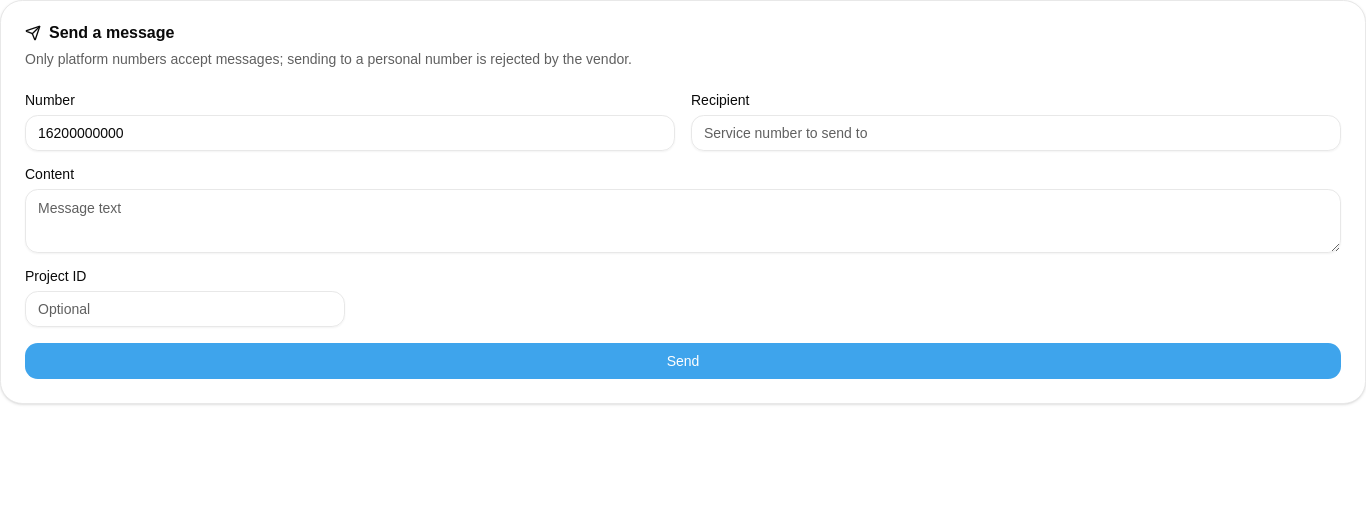
Test: a sent message reports the vendor answer
Type "1069000000000" into the field labelled "Recipient" at (1016, 133), box x1=691 y1=115 x2=1341 y2=151
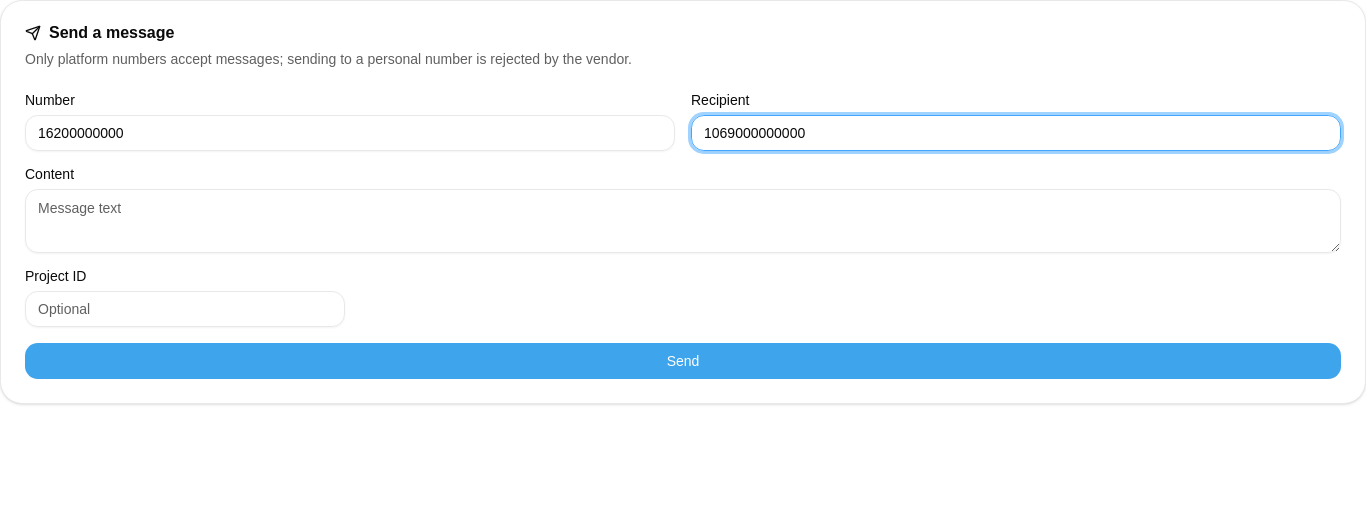
Type "hello" into the text box labelled "Content" at (683, 221), box x1=25 y1=189 x2=1341 y2=253
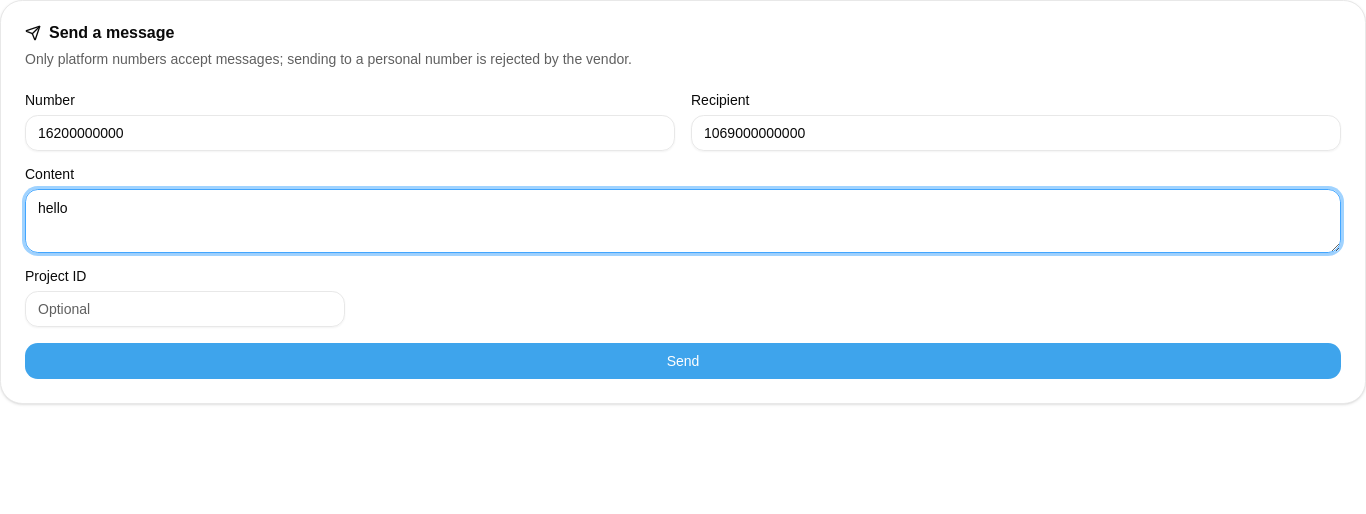
Click the button "Send" at (683, 361), box x1=25 y1=343 x2=1341 y2=379
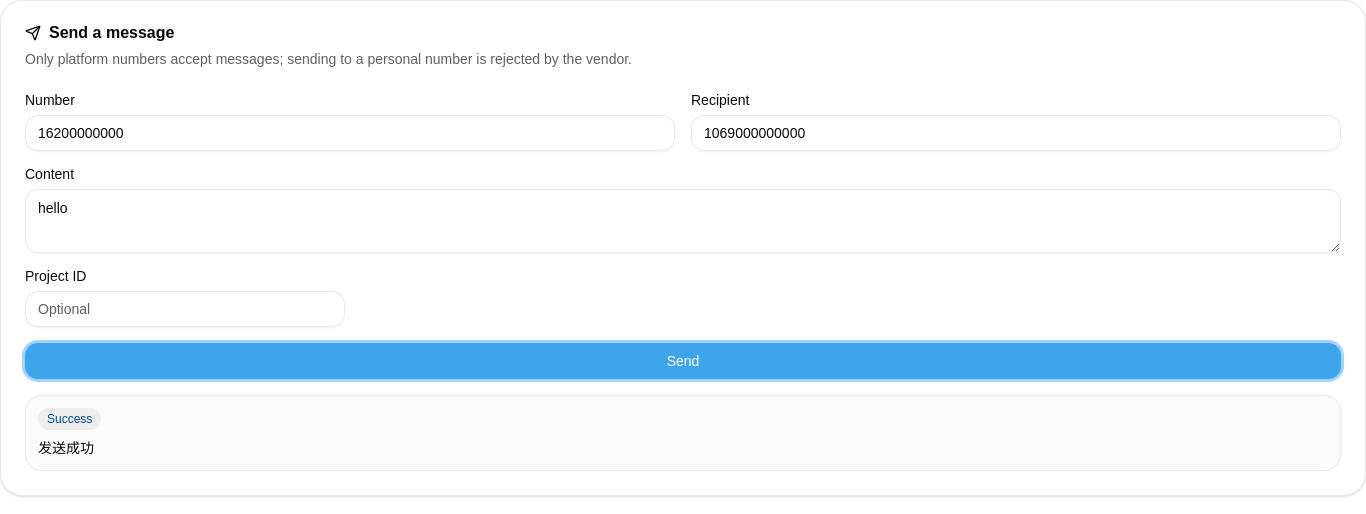
Expected: the text "发送成功" is shown, x1=38 y1=440 x2=94 y2=456
